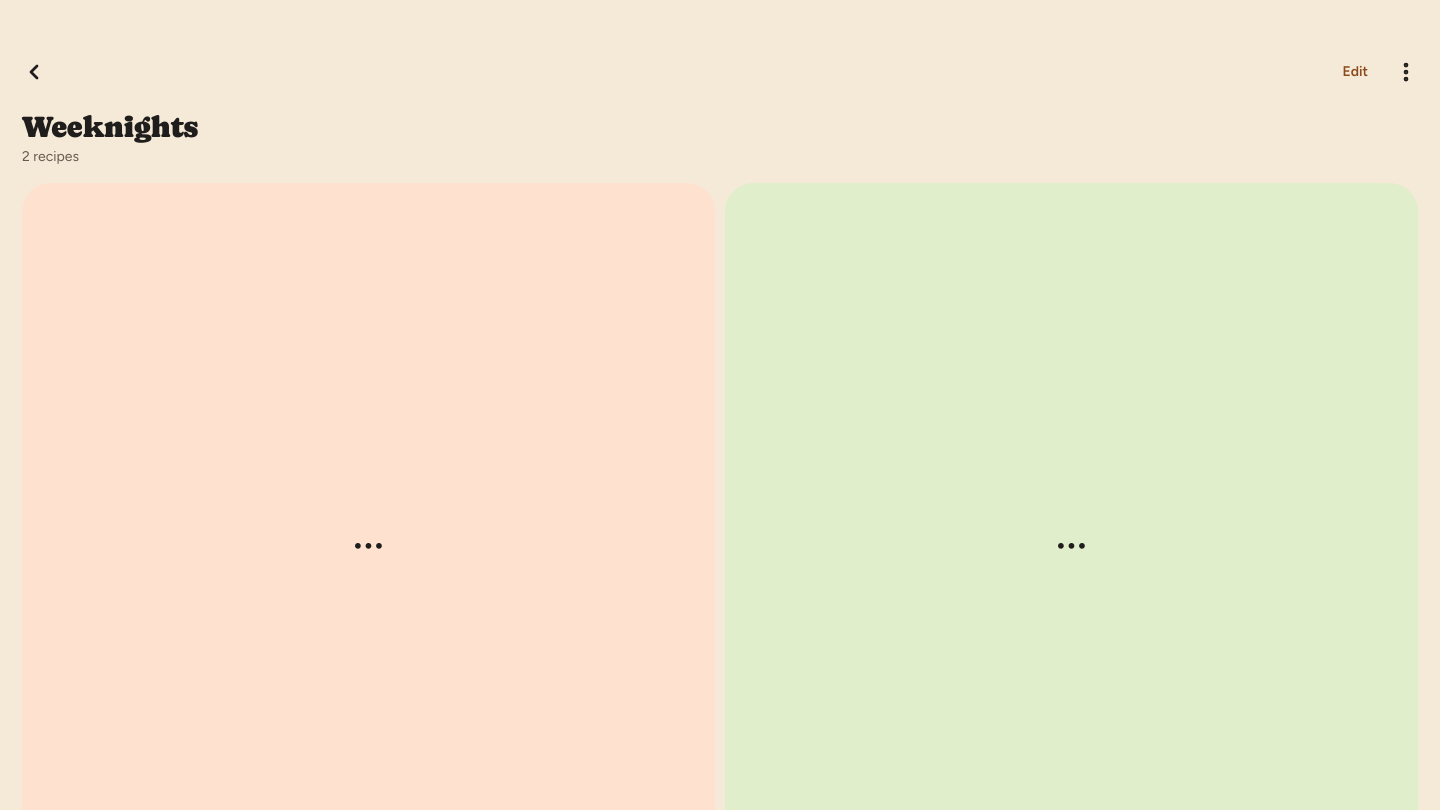
CollectionPage (RL-224) › Share as a cookbook (RL-257) › does not write when the Terms are owed
This screenshot has width=1440, height=810.
Click the button named "More": (1406, 72) top-left (1384, 50), bottom-right (1428, 94)
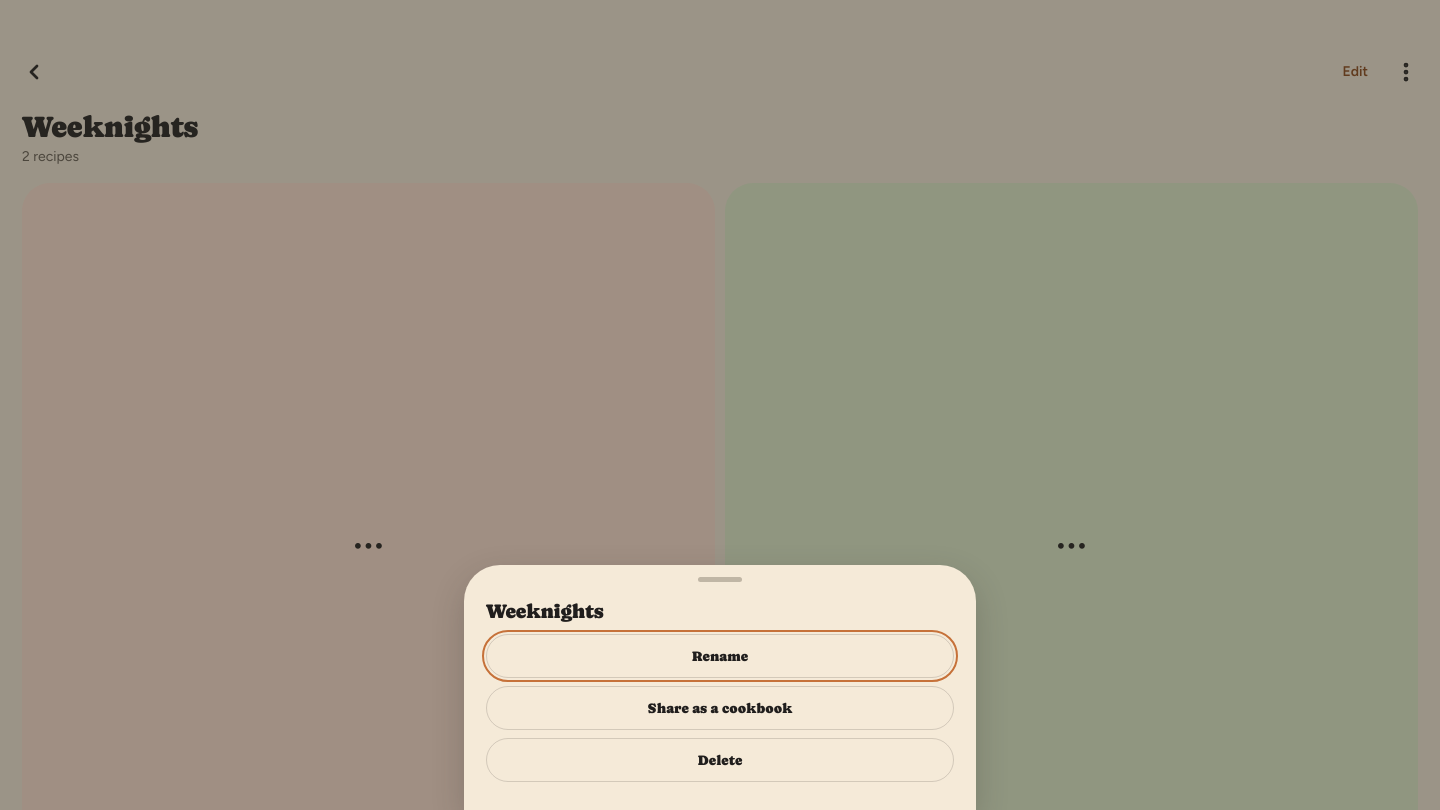
Click the button "Share as a cookbook": (720, 708) top-left (486, 686), bottom-right (954, 730)
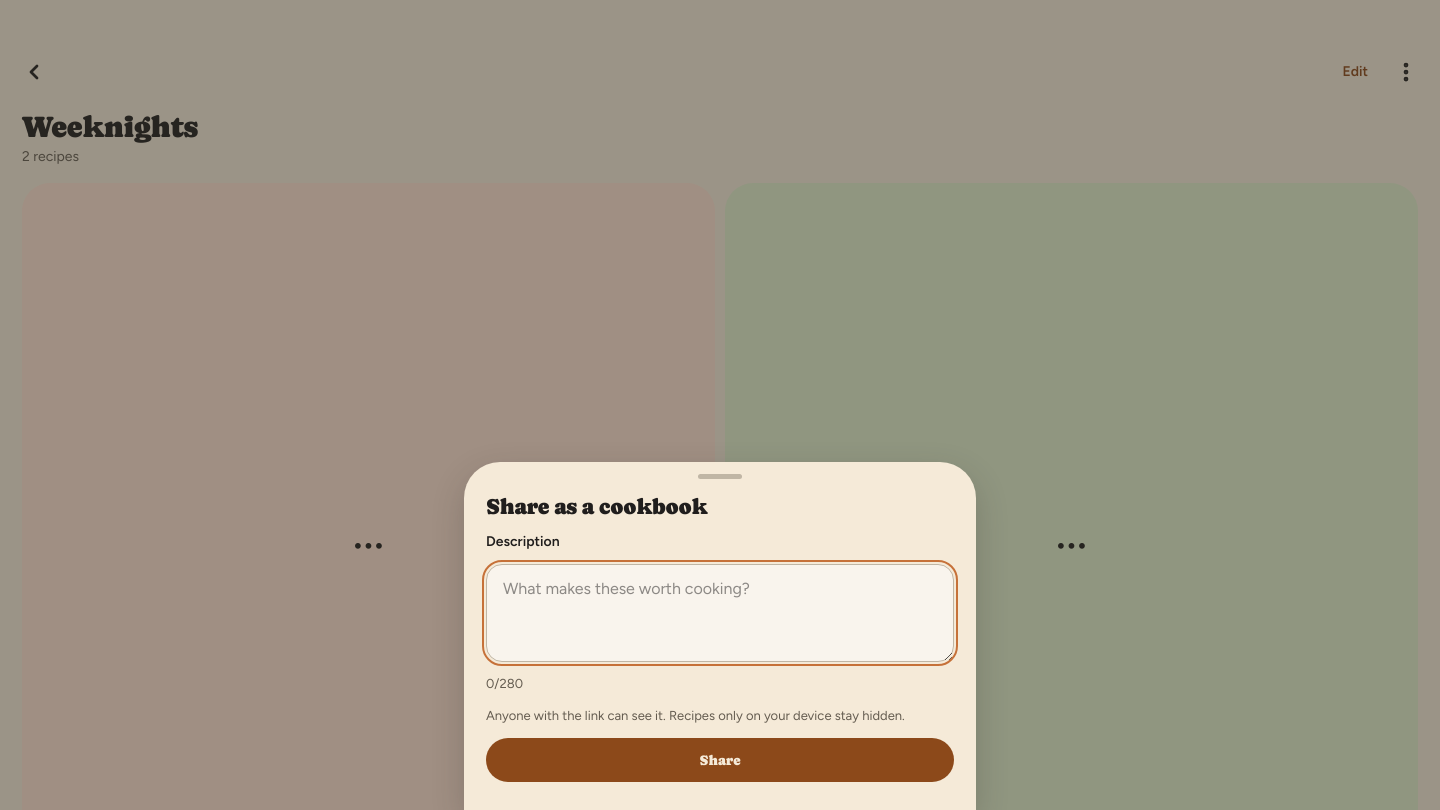
Click the button "Share": (720, 760) top-left (486, 738), bottom-right (954, 782)
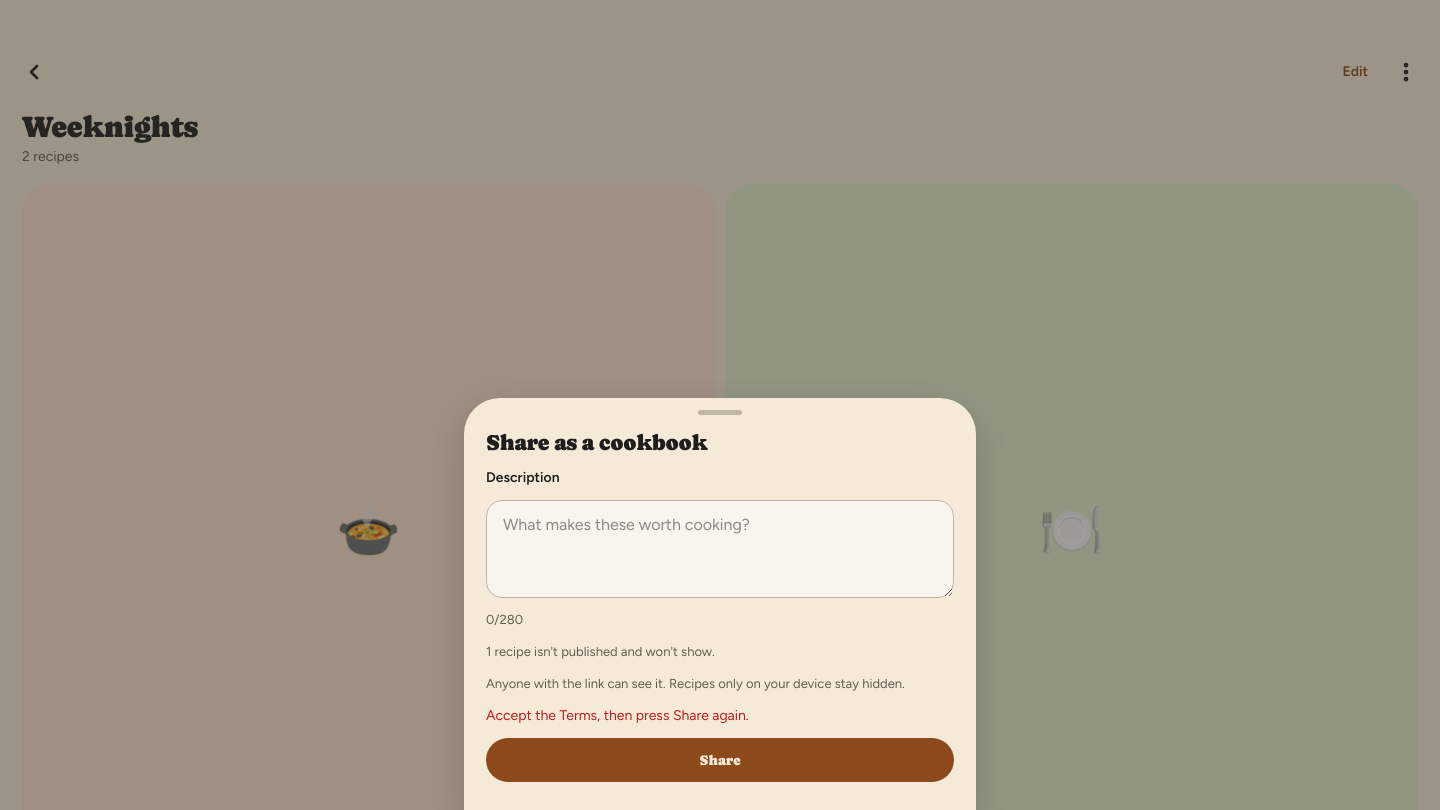
Result: the text "Accept the Terms, then press Share again." is shown at top-left (486, 707), bottom-right (749, 724)
